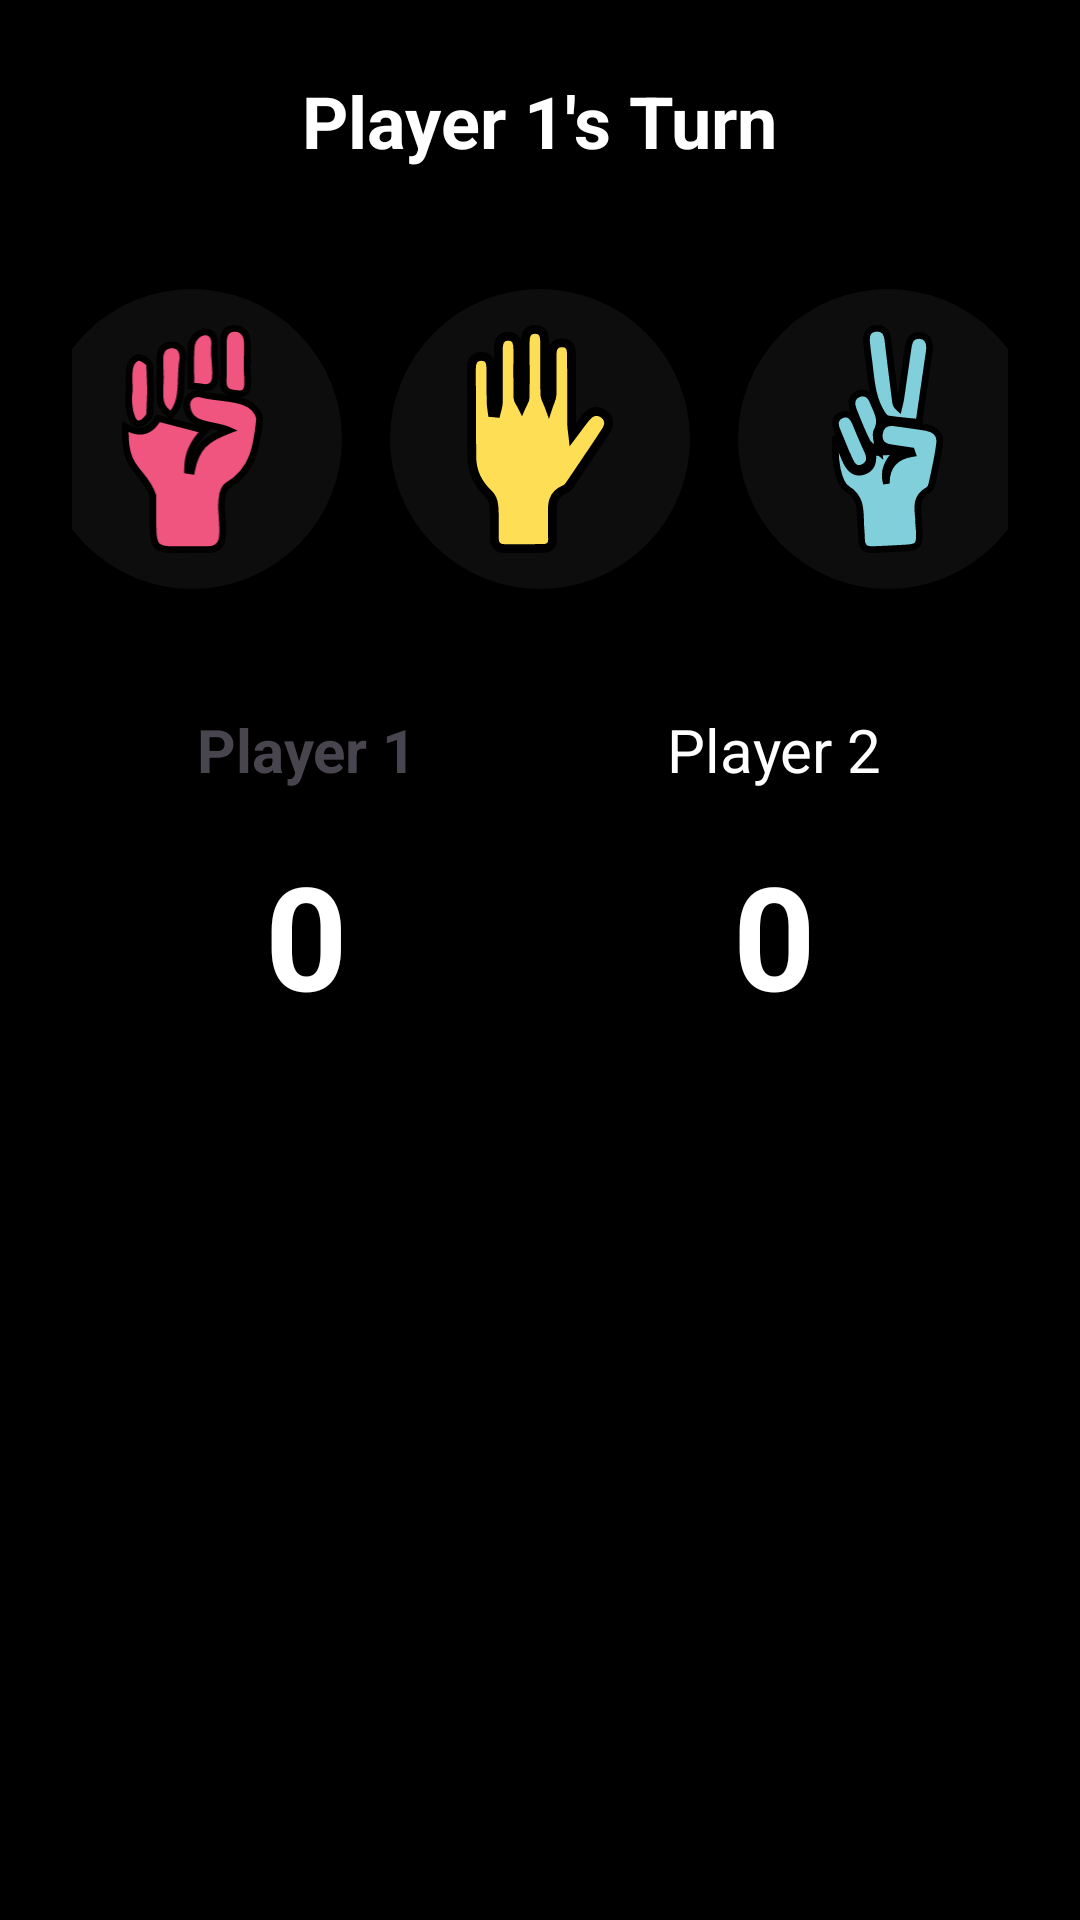

Locate icon controls on the screen. Image size 1080*1920, boxes as (x1, y1, x2, y2).
Paper: (475, 333, 605, 545)
Rock: (128, 331, 257, 547)
Scissors: (738, 289, 1008, 589)
